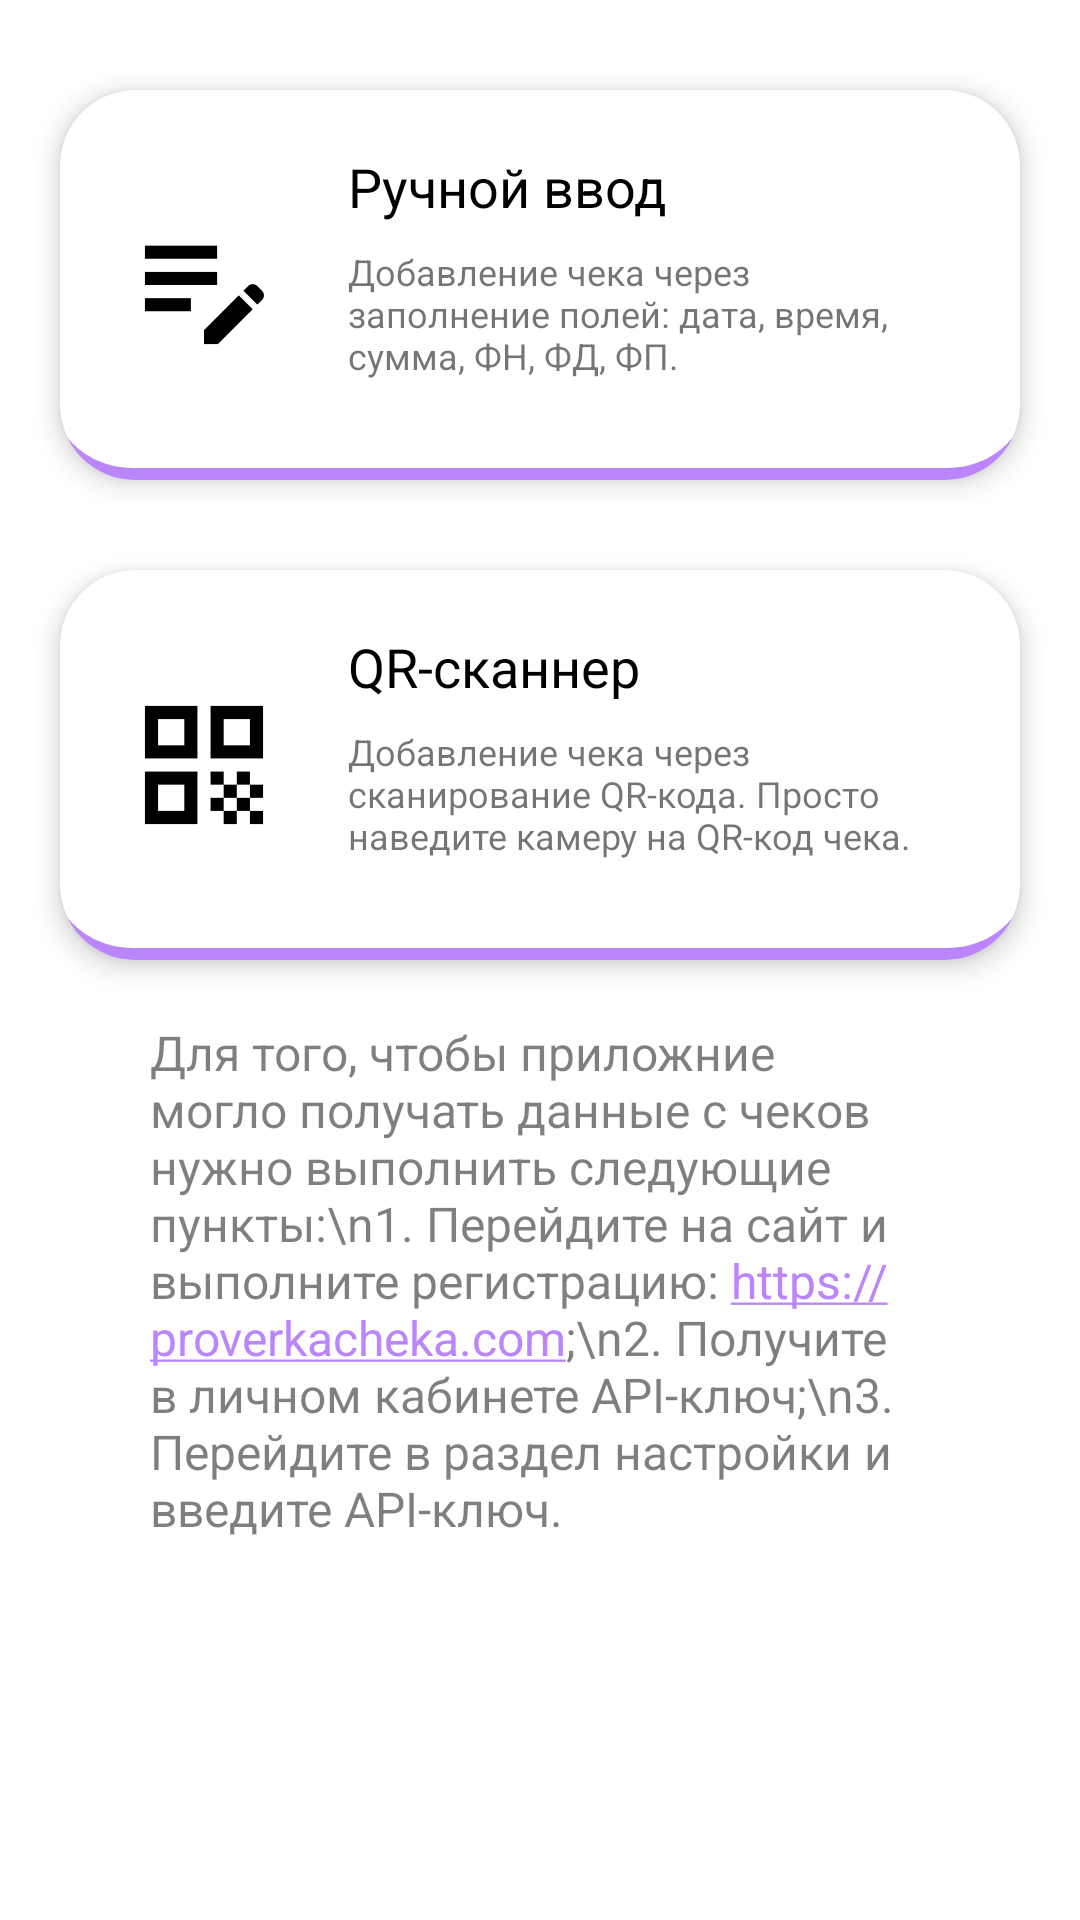

Where icons sit on this 1080w x 1920h app screen, as (left=x1, top=y1, right=x2, bottom=y2):
input: (left=145, top=245, right=264, bottom=344)
qr scanner: (left=145, top=706, right=263, bottom=824)
